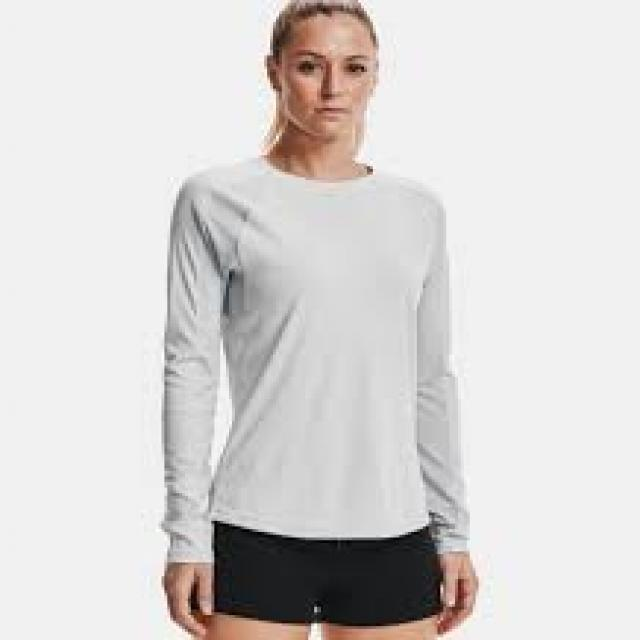plain: (168, 153, 475, 535)
